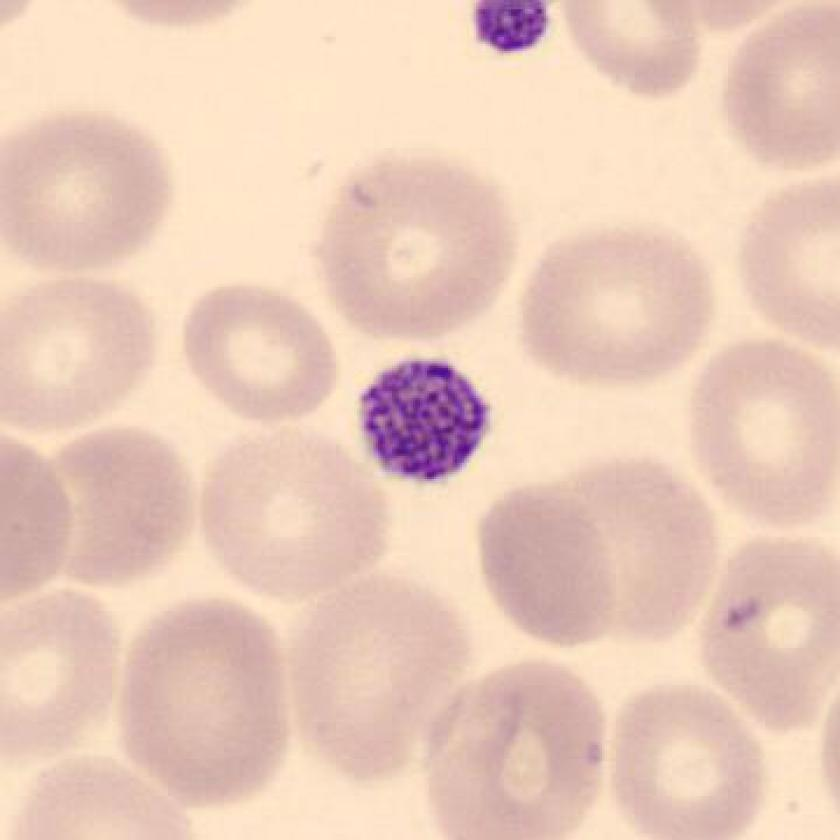platelets: (349, 339, 505, 498), (463, 1, 565, 70)
